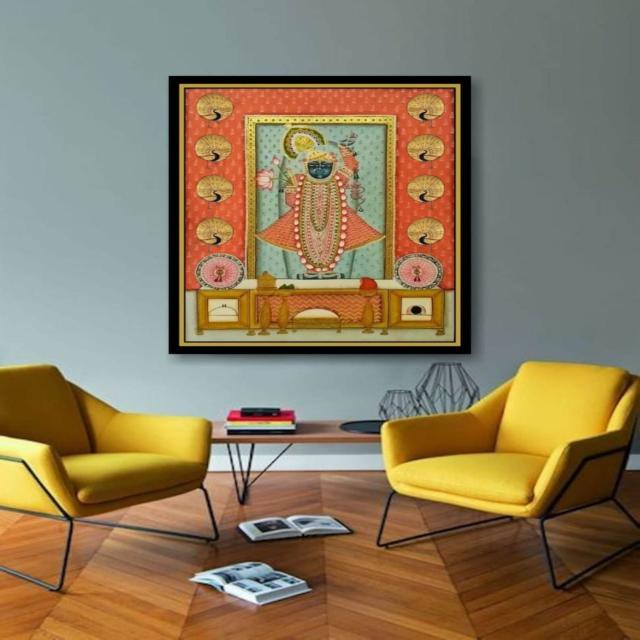painting: (168, 78, 471, 354)
